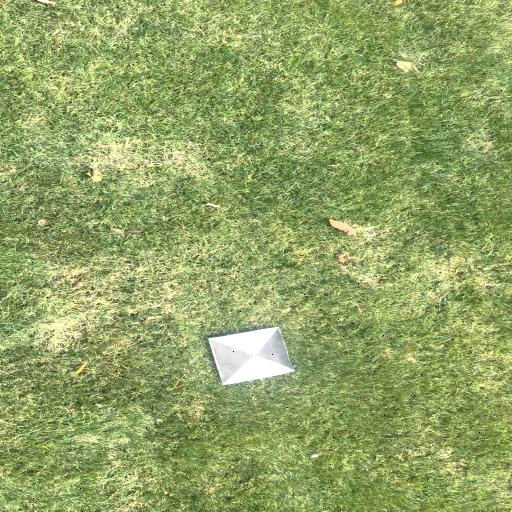target: (208, 328, 295, 384)
